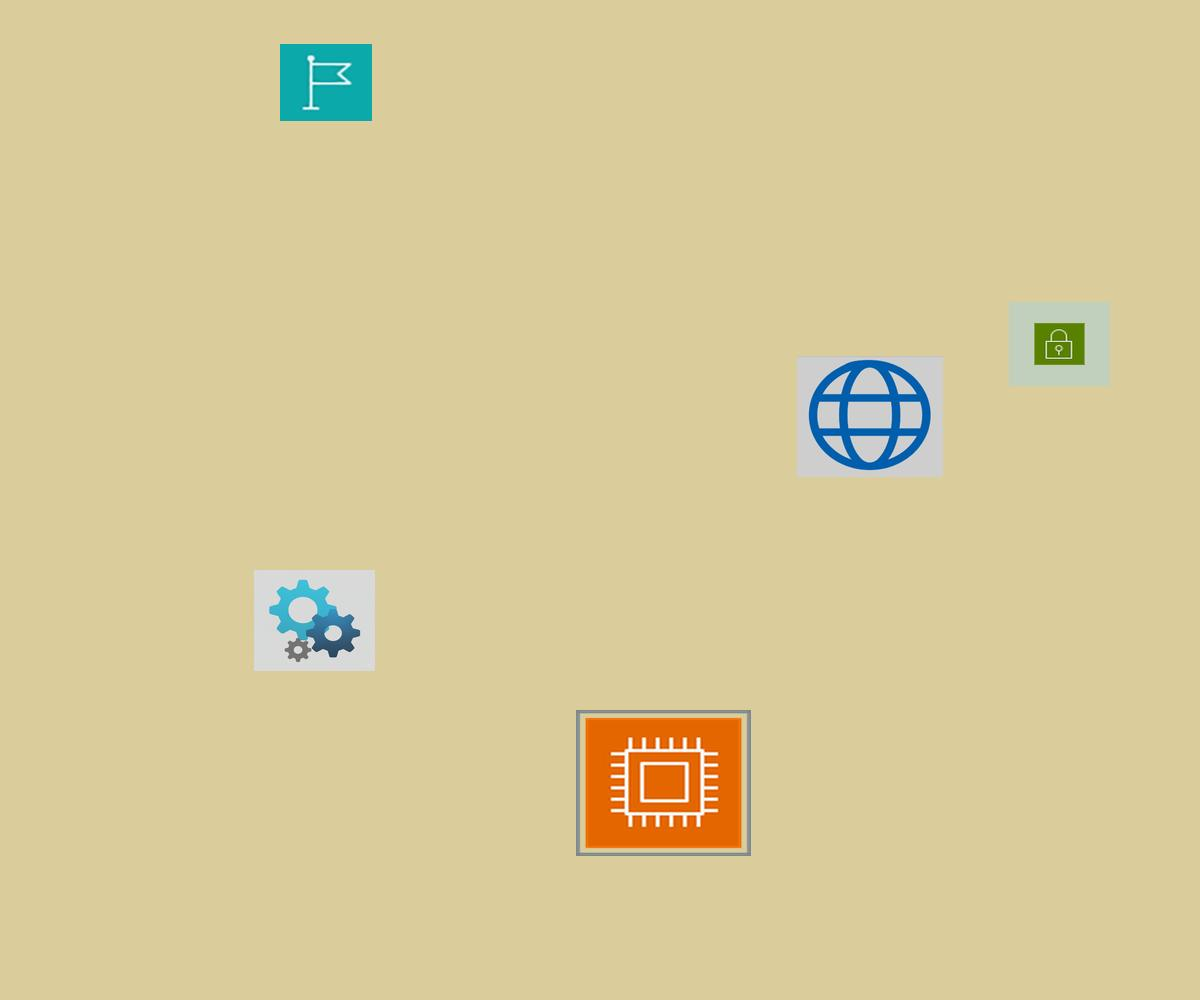AWS-Category_Compute: (576, 710, 751, 856)
AWS-Public-subnet: (1009, 302, 1110, 386)
AWS-Region: (280, 44, 372, 121)
Azure_api: (254, 570, 375, 671)
Azure_http: (797, 356, 943, 477)
